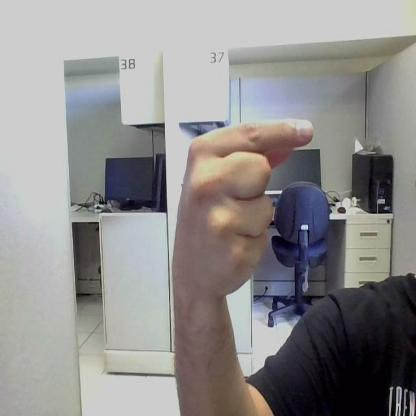G: (182, 121, 314, 294)
